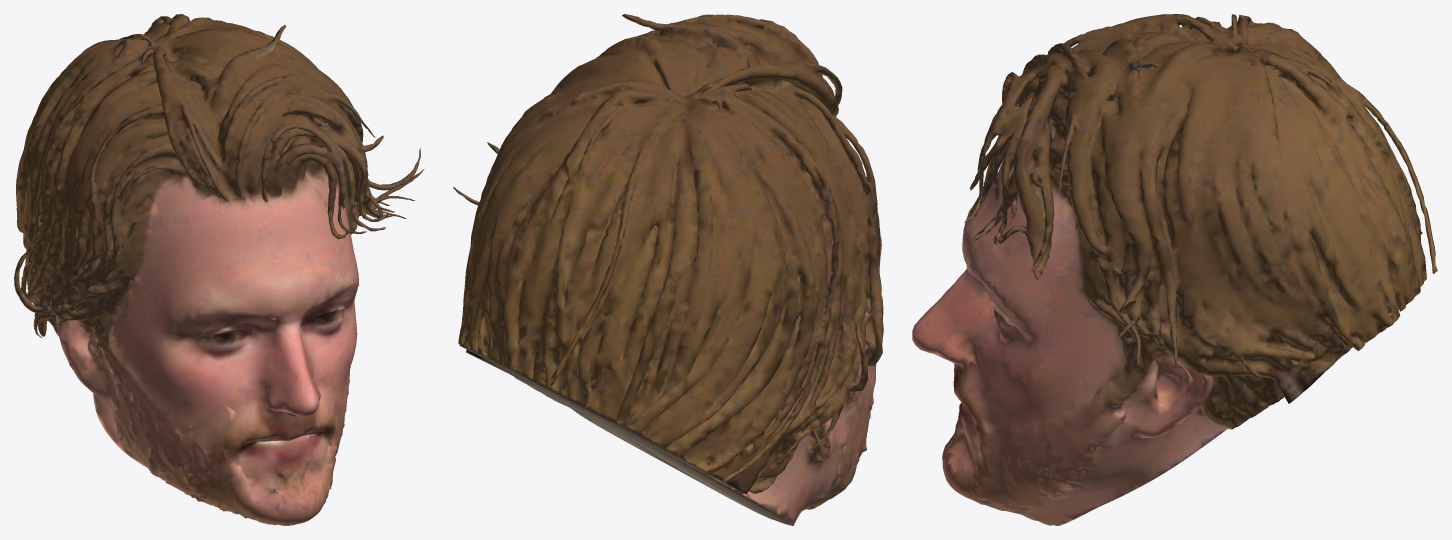
Rendered from head_peter.glb.
3 views of the same model, side by side, from view 1: azimuth 30°, elevation 25°; view 2: azimuth 150°, elevation 25°; view 3: azimuth 270°, elevation 25° (orthographic). The views are drawn at different scales.
Visible parts, largest first — view 1: Peter; view 2: Peter; view 3: Peter.
Boxes of the visible parts, x1=… form: Peter: x1=14, y1=14, x2=424, y2=525; Peter: x1=453, y1=14, x2=883, y2=525; Peter: x1=912, y1=14, x2=1437, y2=525.
Bounding box in the file's own units: 0.244 × 0.2701 × 0.2597.
Materials: 1 (1 with a texture image).
